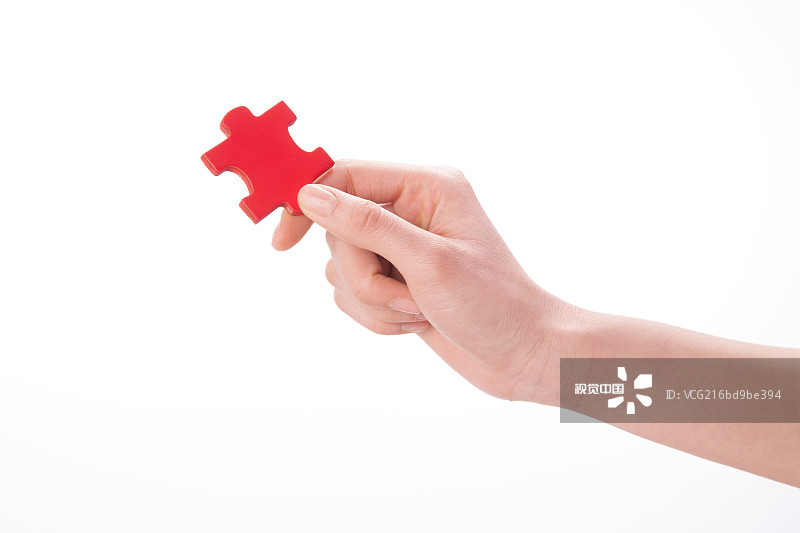no-phone: (245, 131, 556, 412)
